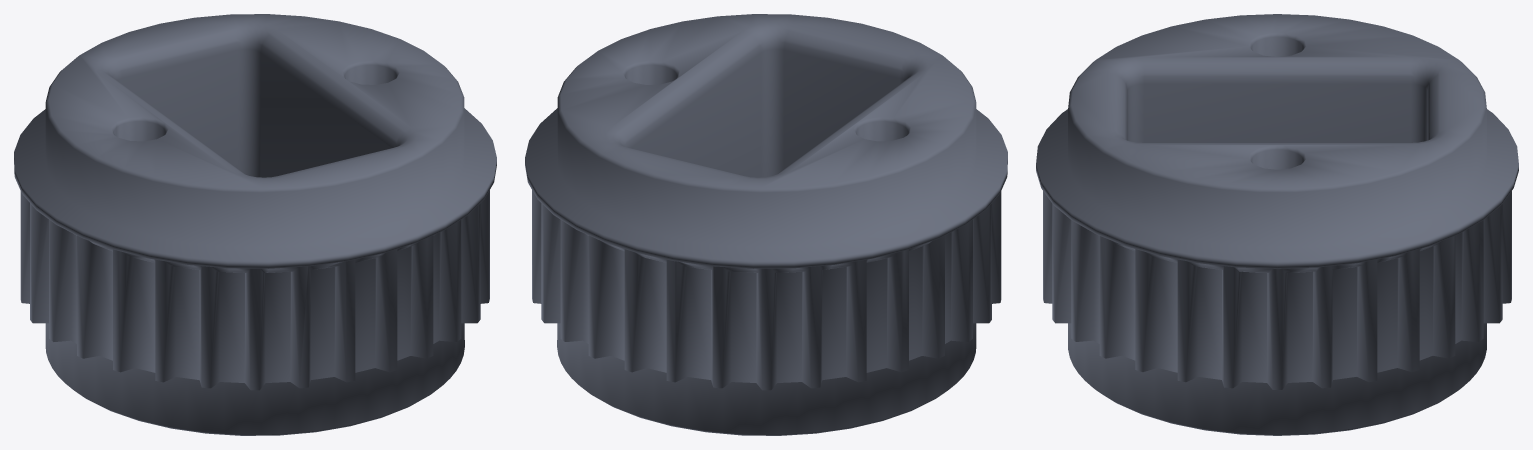
File: solo_upper_leg_left_side_17.obj
3 renders of one model, left to right at view 1: azimuth 30°, elevation 25°; view 2: azimuth 150°, elevation 25°; view 3: azimuth 270°, elevation 25°, orthographic.
Size of the model in its own units: 0.0289 by 0.0164 by 0.029.
